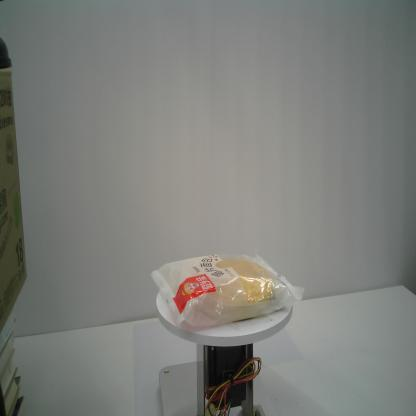Dessert: (145, 250, 306, 332)
